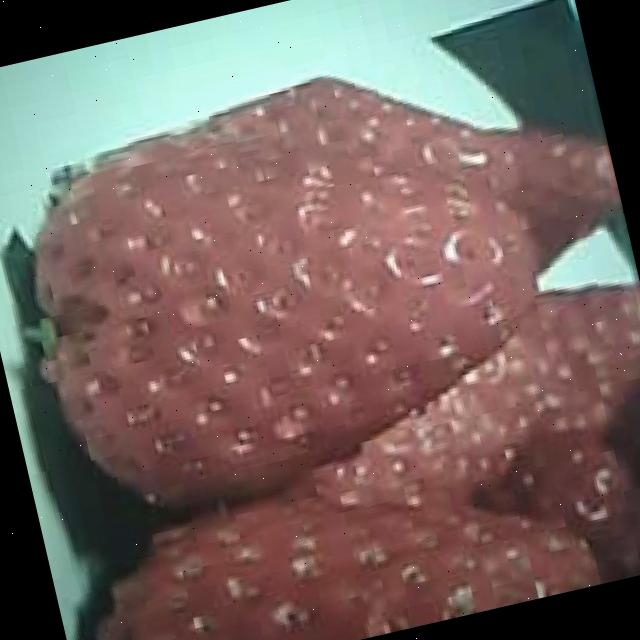strawberry: (4, 79, 564, 533)
